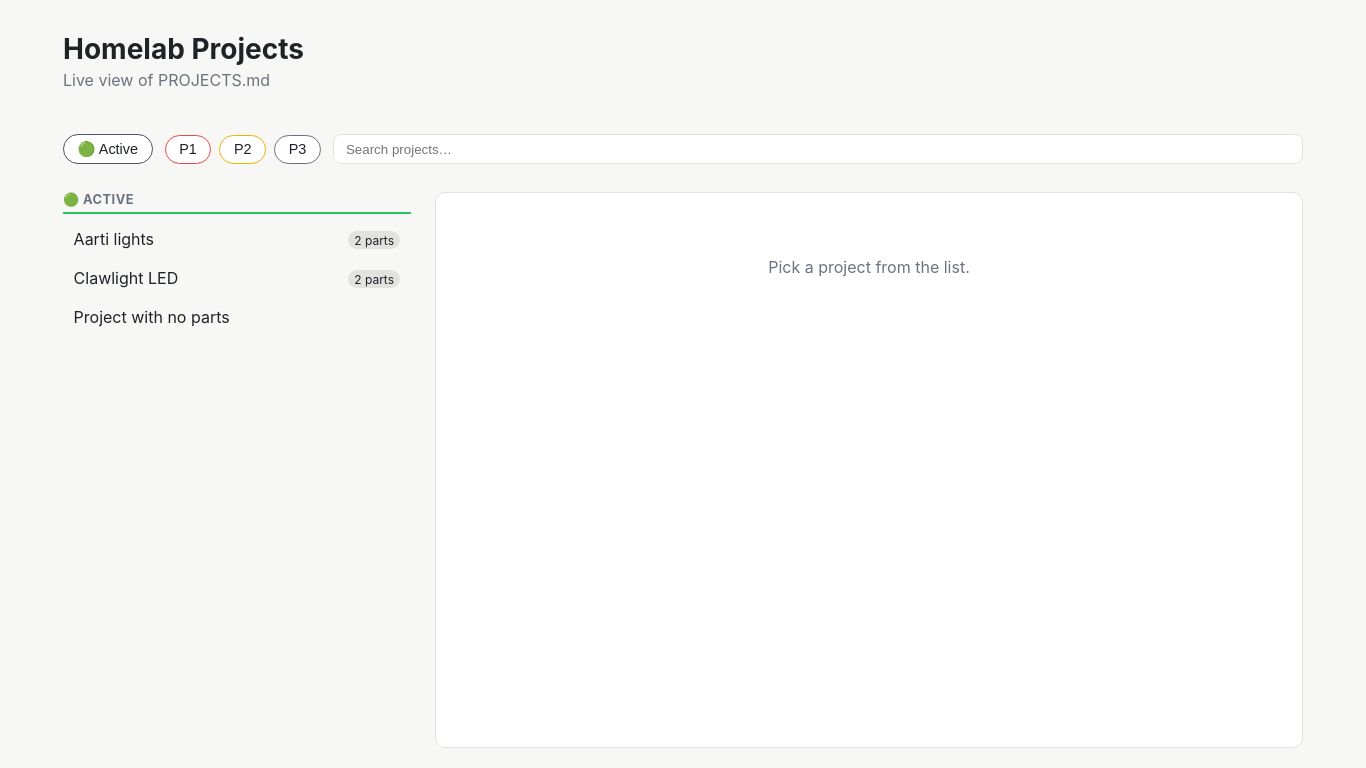
it: shopping list › merges a shared item across two projects into one line
Click the button "Aarti lights 2 parts": click(114, 239) [63,220,411,257]
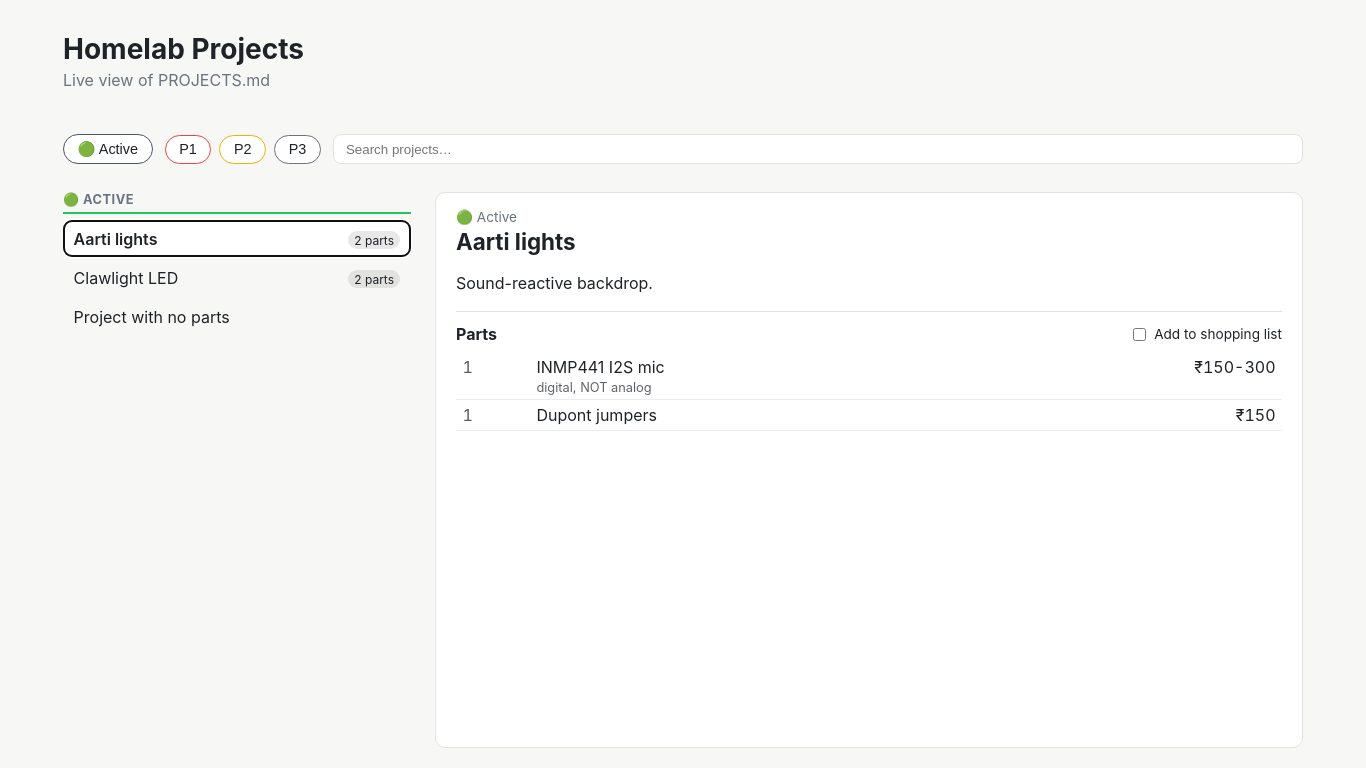
Click the checkbox labelled "Add to shopping list": click(1139, 334) [1133,328,1146,341]
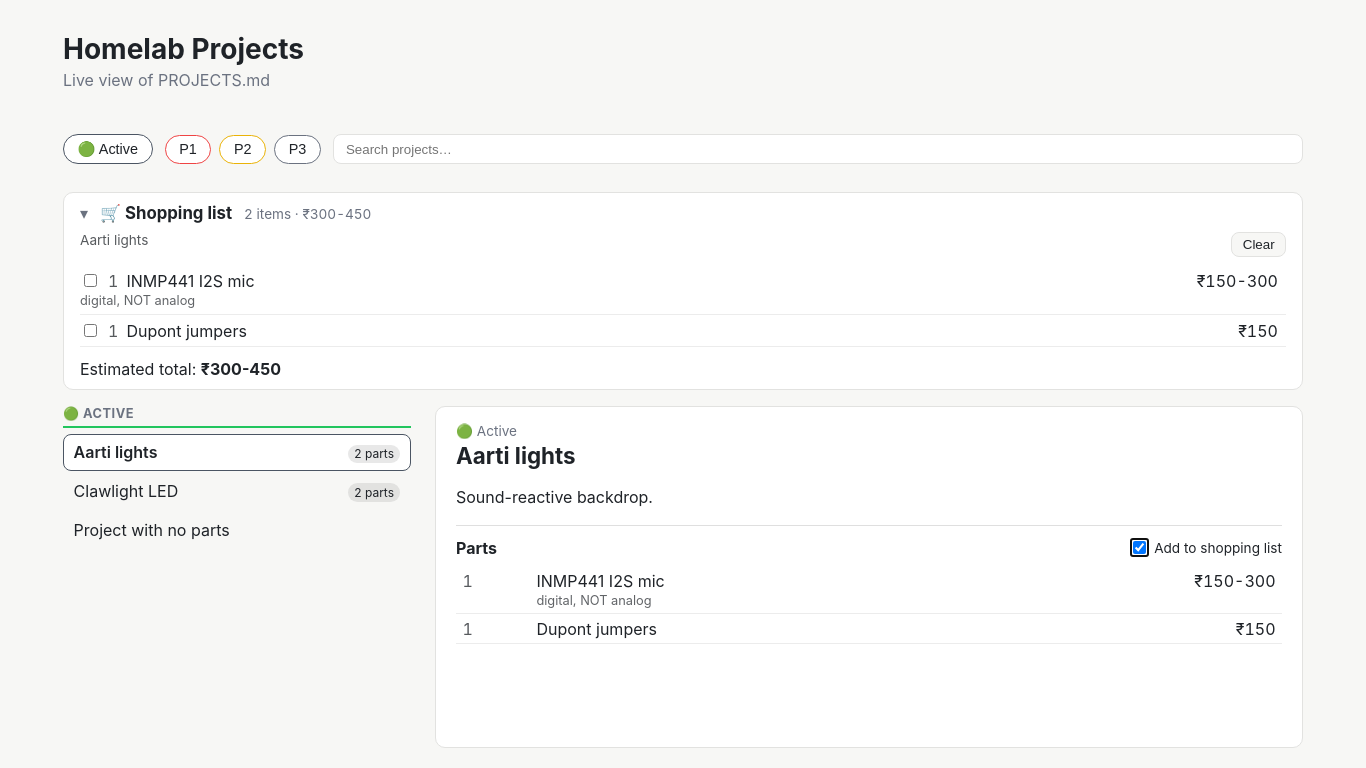
Click the button "Clawlight LED 2 parts": click(126, 491) [63,473,411,510]
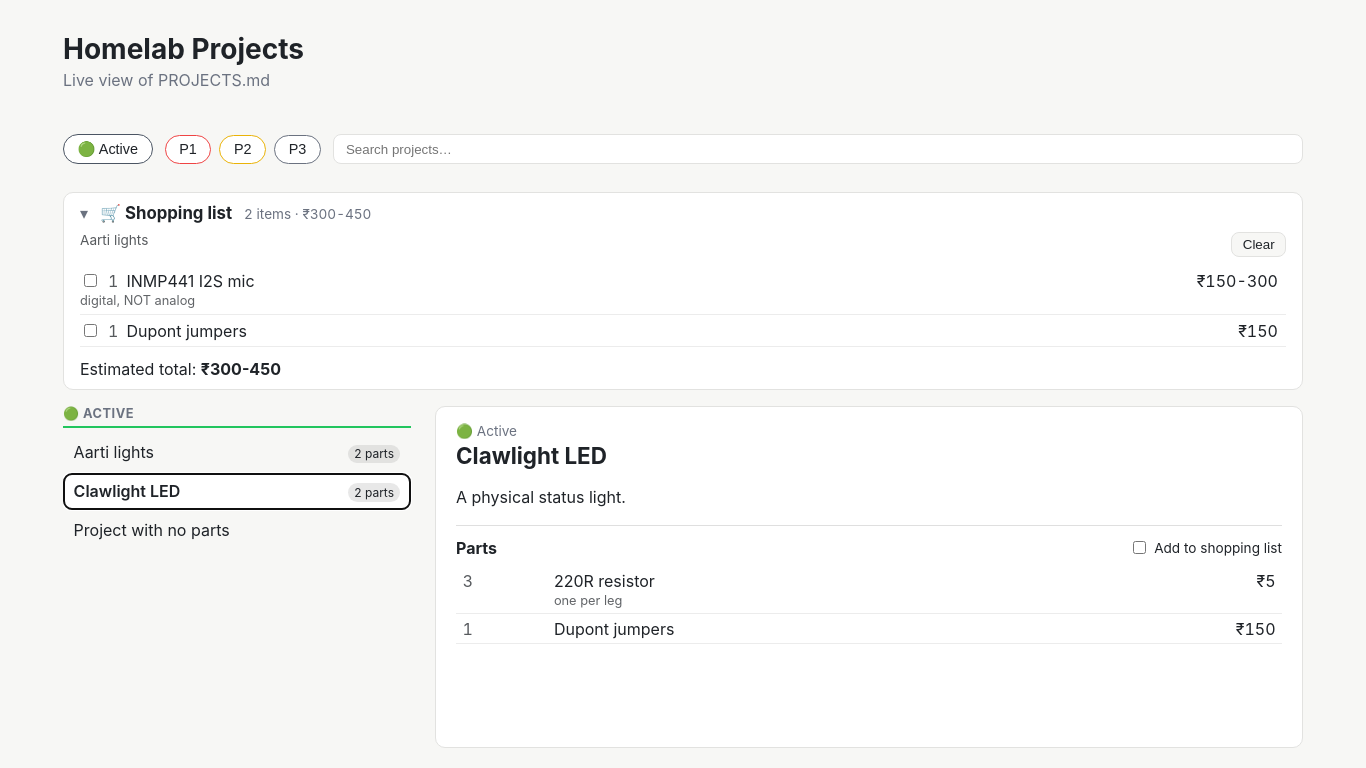
Click the checkbox labelled "Add to shopping list": click(1139, 548) [1133,541,1146,554]
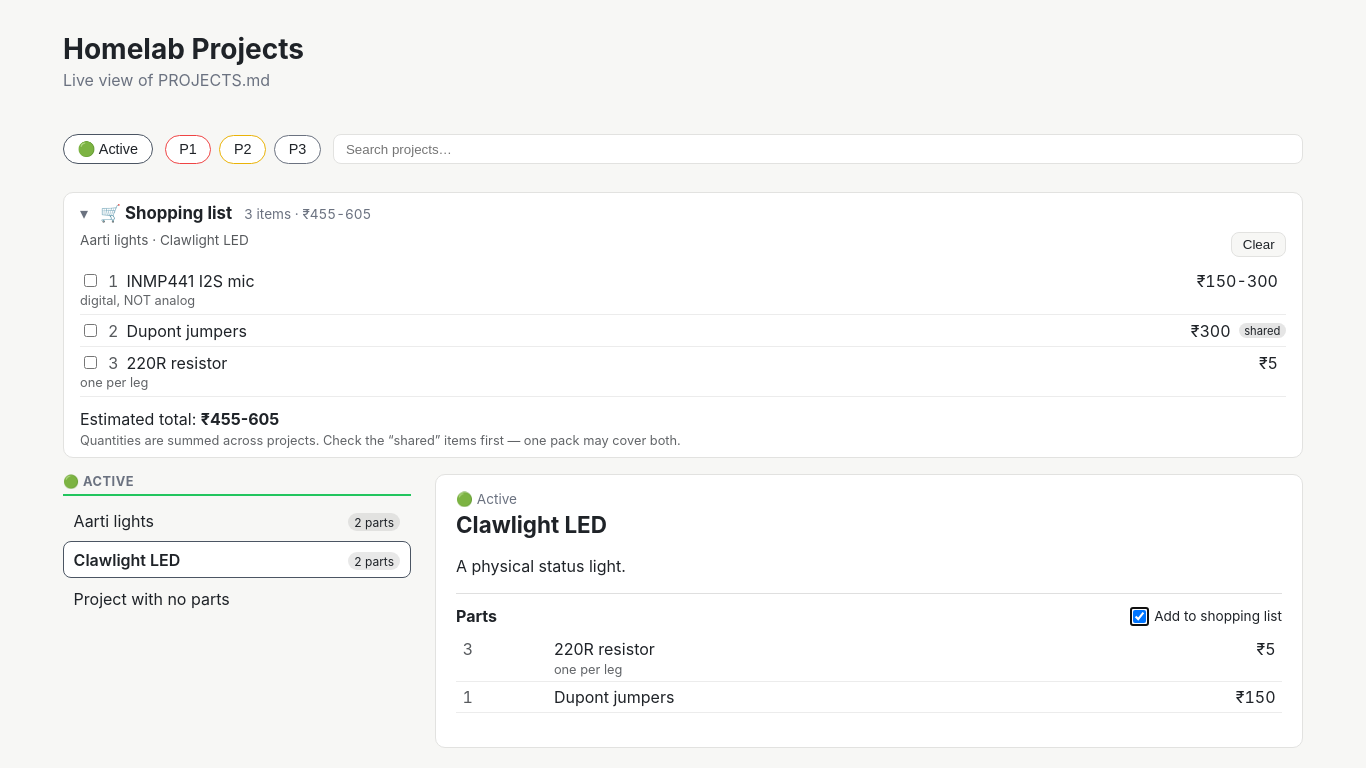
Expected: the text "Dupont jumpers" is shown once, [126,320,247,340]
Expected: the text "shared" is shown, [1239,323,1286,338]
Expected: the text "₹455-605" is shown, [201,409,279,429]
